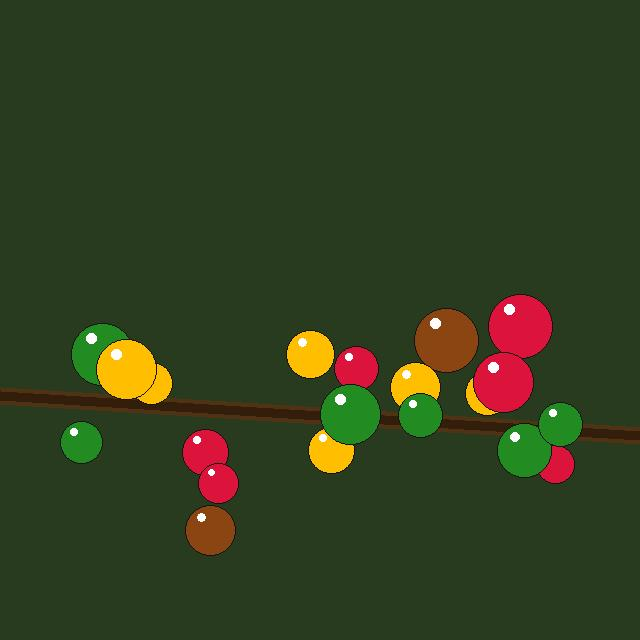Overripe: (414, 308, 478, 372), (185, 505, 235, 555)
Ripe: (488, 294, 552, 358), (473, 352, 533, 412), (182, 429, 228, 475), (334, 346, 378, 390), (198, 463, 238, 503), (536, 445, 574, 483)
Ripening: (96, 339, 156, 399), (390, 362, 440, 412), (286, 330, 334, 378), (308, 427, 354, 473), (465, 371, 509, 415), (130, 362, 172, 404)
Unripe: (71, 323, 133, 385), (320, 384, 380, 444), (497, 423, 551, 477), (538, 402, 582, 446), (398, 393, 442, 437), (60, 421, 102, 463)
